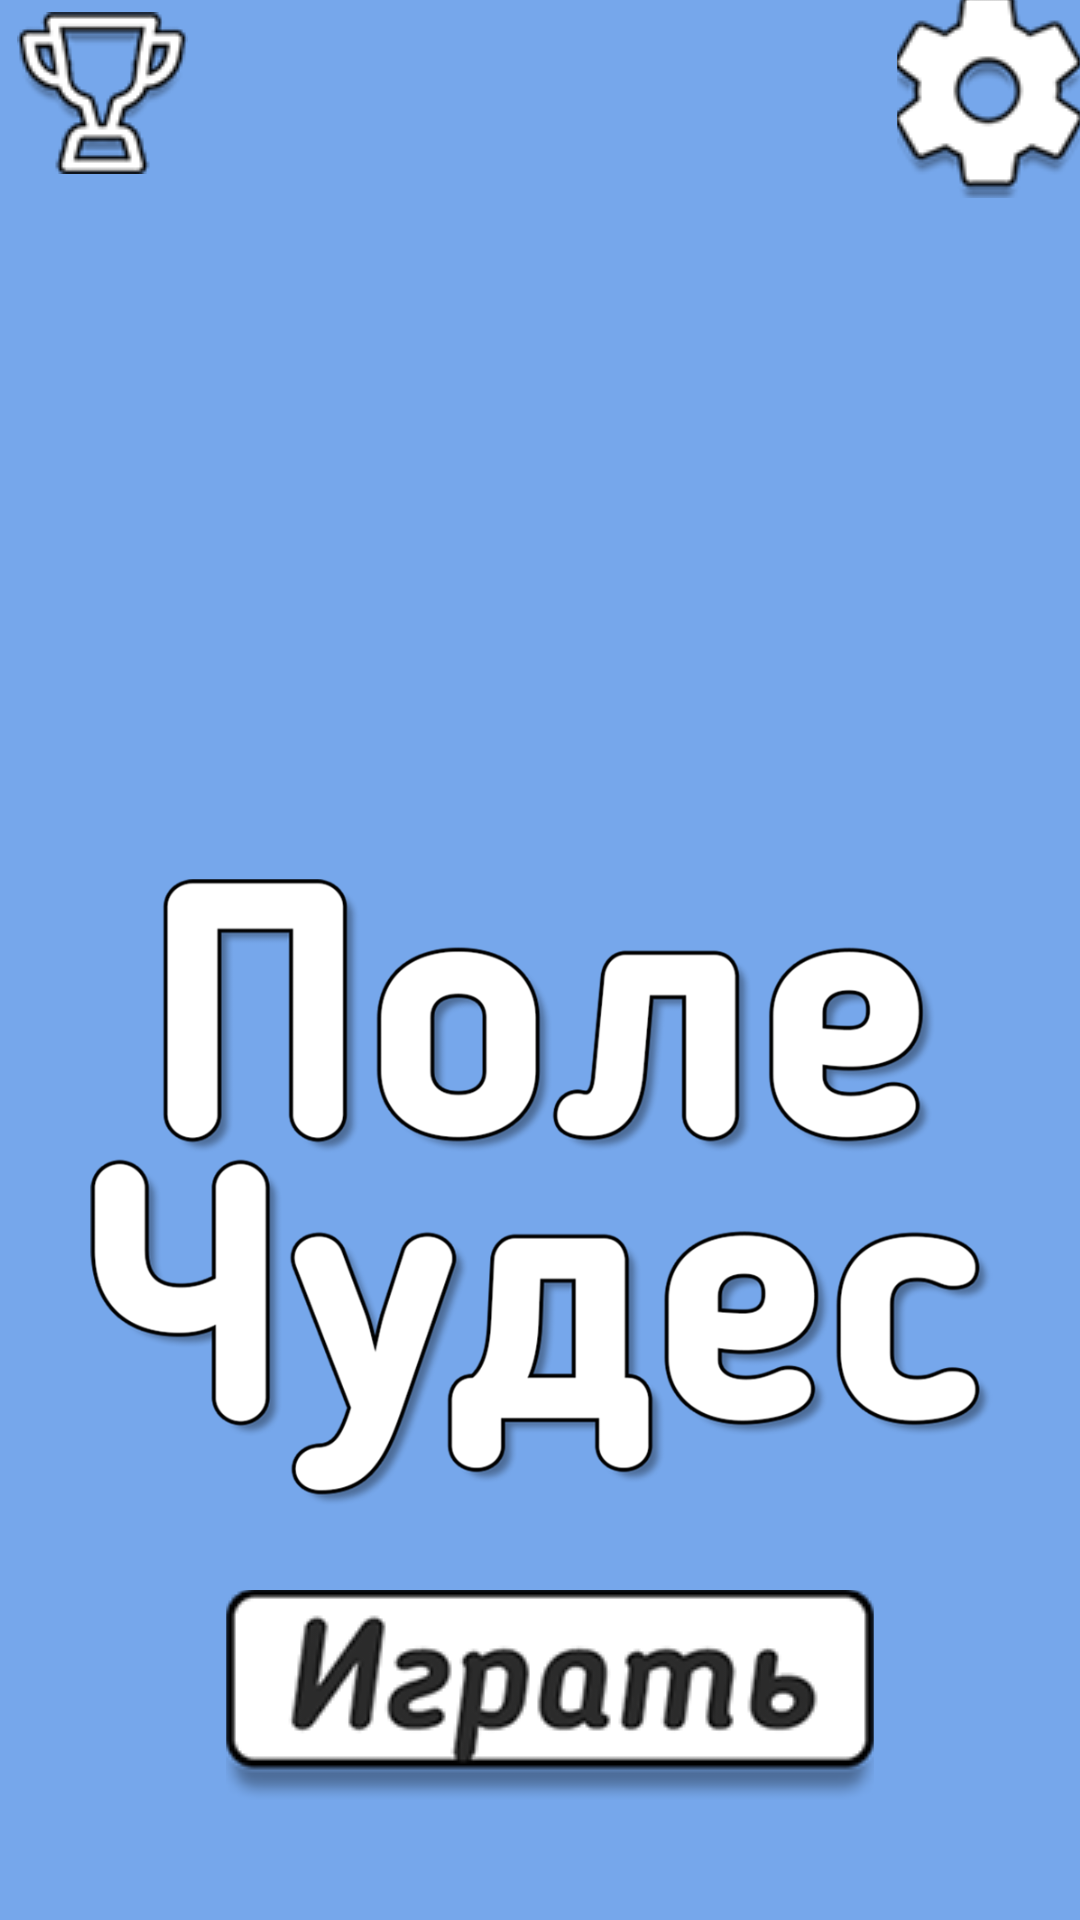

Named icons in this screenshot (1080w x 1920h) and their centers, [x,y]:
leaderboard: [101,93]
setttings: [988,99]
